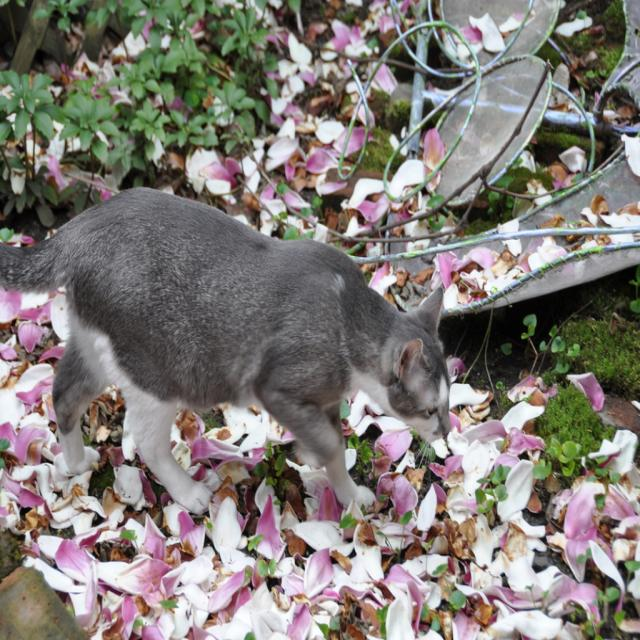Cat: (0, 186, 469, 514)
